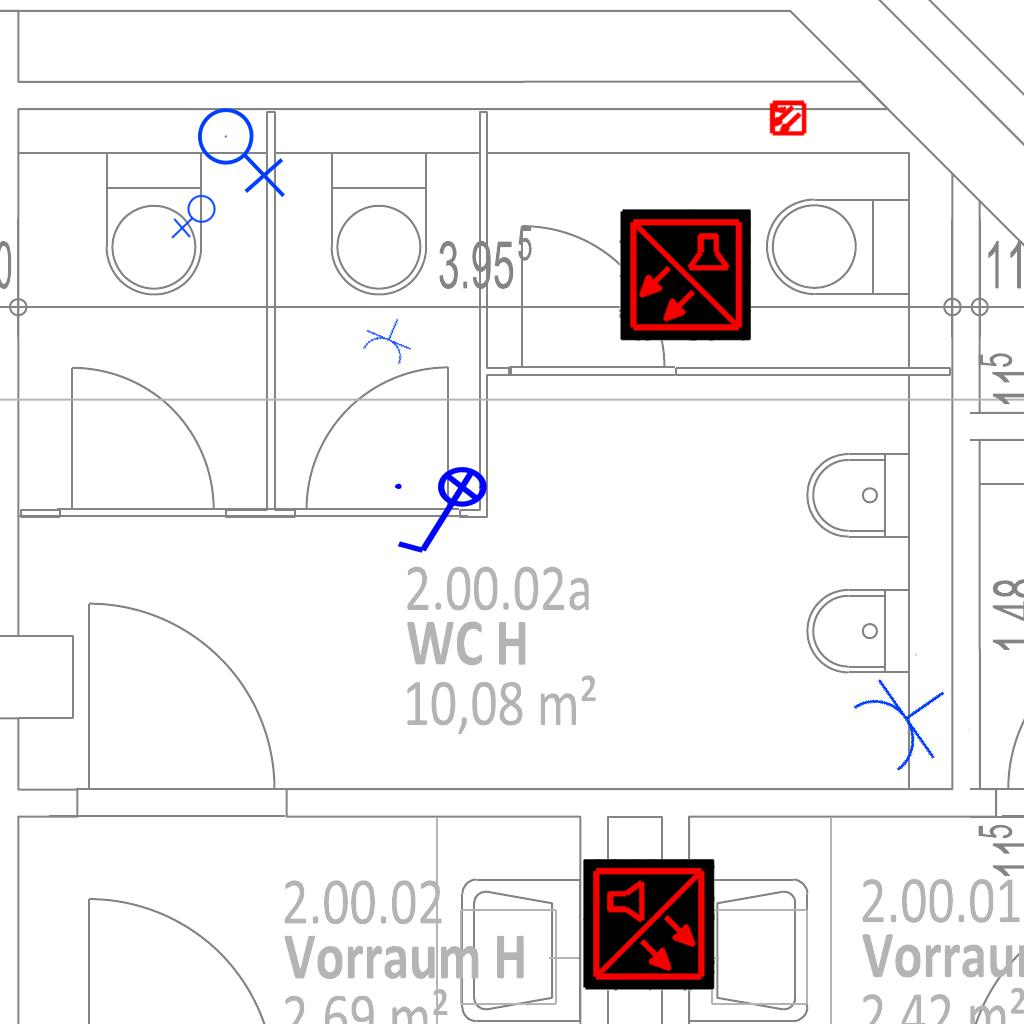Ausschalter_beleuchtet: (389, 465, 501, 561)
Elektroanschluss_allgemein_230V_Geraeteanschlussdose_230V: (196, 99, 290, 198), (171, 194, 220, 241)
OKW_Multisensormelder_(Kombination_optischer_Rauch-Kahlenmonoxid_Waerme-Melder): (619, 209, 751, 341), (583, 859, 715, 991)
OT_Multisensormelder_(Kombination_RMO_WMD): (577, 844, 690, 957), (759, 90, 815, 146)
Schukosteckdose_einfach: (843, 650, 973, 783), (357, 308, 421, 369)
